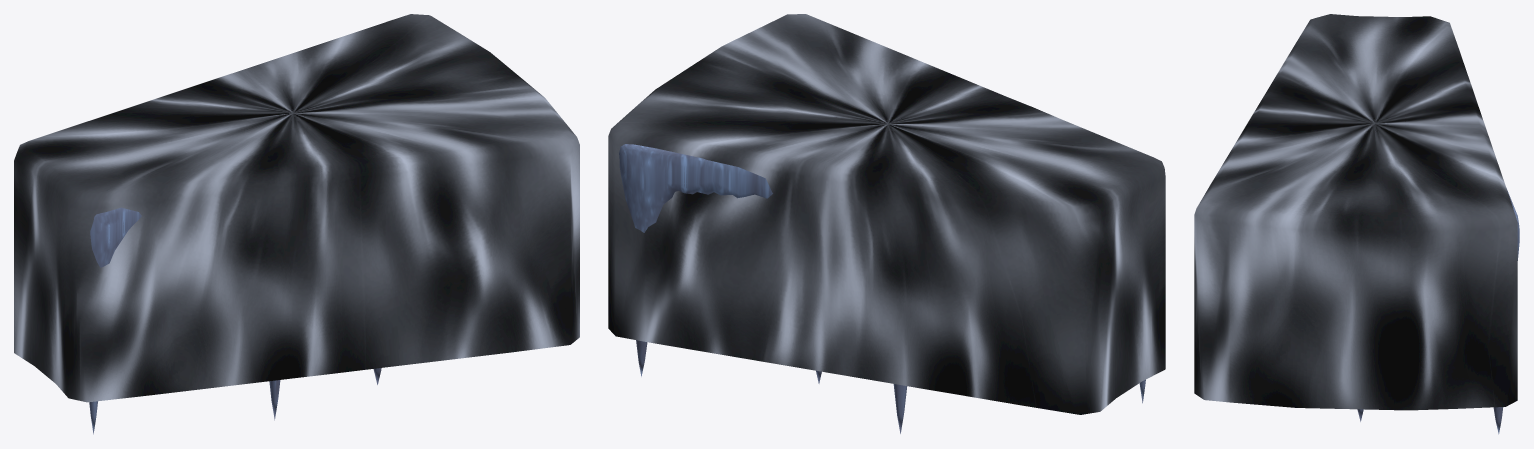
The model's file is SM_Aurora_Stairs_Step2.glb.
The picture shows the model from 3 angles, left to right: view 1: azimuth 30°, elevation 25°; view 2: azimuth 150°, elevation 25°; view 3: azimuth 270°, elevation 25°; orthographic projection. The views are drawn at different scales.
Parts seen in each view (by area): view 1: SM_Aurora_Stairs_Step2; view 2: SM_Aurora_Stairs_Step2; view 3: SM_Aurora_Stairs_Step2.
Part boxes in pixels (x1=…): SM_Aurora_Stairs_Step2: x1=14, y1=14, x2=579, y2=434; SM_Aurora_Stairs_Step2: x1=608, y1=14, x2=1165, y2=433; SM_Aurora_Stairs_Step2: x1=1194, y1=14, x2=1519, y2=434.
Bounding box in the file's own units: 0.8471 × 0.5285 × 0.5513.
Materials: 2 (2 with a texture image).
